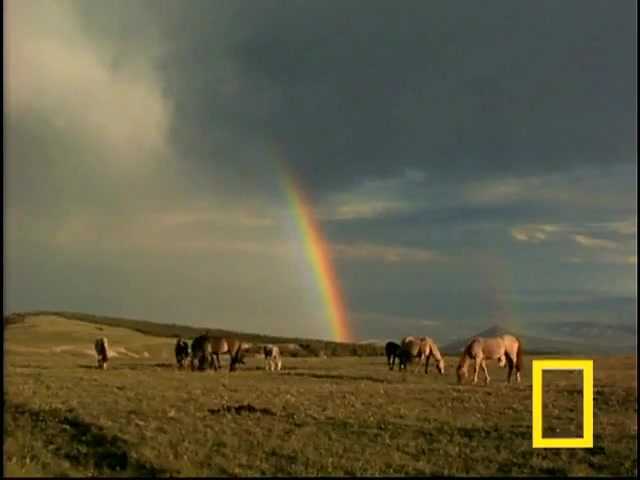horse: (456, 332, 526, 390)
